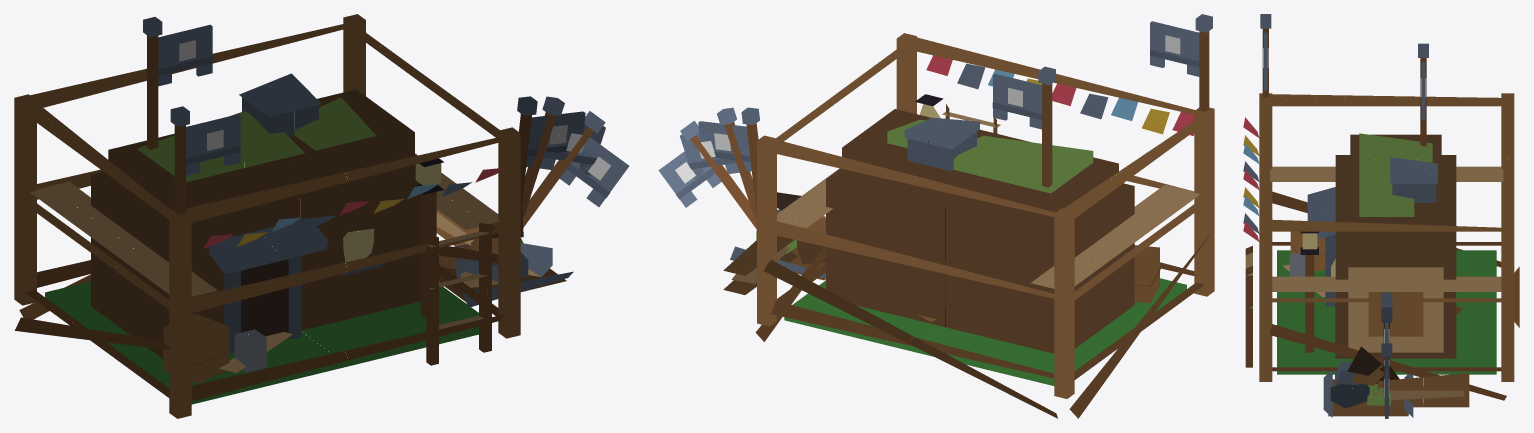
The model's file is raccoon-home_lod1.glb.
3 views of the same model, side by side, from view 1: azimuth 30°, elevation 25°; view 2: azimuth 150°, elevation 25°; view 3: azimuth 270°, elevation 25° (orthographic). The views are drawn at different scales.
Parts seen in each view (by area): view 1: scaffold-mesh, built-mesh, dismantle-75-mesh, dismantle-50-mesh, dismantle-25-mesh, banner, scaffold-banner, dismantle-25-banner, flag-pole, dismantle-75-banner, dismantle-25-flag-pole, scaffold-flag-pole (+3 smaller); view 2: scaffold-mesh, dismantle-75-mesh, built-mesh, dismantle-50-mesh, dismantle-25-mesh, scaffold-banner, banner, dismantle-25-banner, flag-pole, dismantle-75-banner, dismantle-25-flag-pole, scaffold-flag-pole (+3 smaller); view 3: scaffold-mesh, built-mesh, dismantle-25-mesh, dismantle-75-mesh, dismantle-50-mesh, flag-pole, scaffold-flag-pole, banner, scaffold-banner.
Boxes of the visible parts, <box> form: scaffold-mesh: <box>14,14,520,418</box>; built-mesh: <box>91,73,443,371</box>; dismantle-75-mesh: <box>91,178,573,381</box>; dismantle-50-mesh: <box>91,228,566,380</box>; dismantle-25-mesh: <box>163,207,552,383</box>; banner: <box>158,24,212,86</box>; scaffold-banner: <box>186,114,240,175</box>; dismantle-25-banner: <box>559,137,628,206</box>; flag-pole: <box>143,17,162,149</box>; dismantle-75-banner: <box>526,111,585,167</box>; dismantle-25-flag-pole: <box>522,111,605,227</box>; scaffold-flag-pole: <box>170,106,189,214</box>; scaffold-mesh: <box>723,33,1214,418</box>; dismantle-75-mesh: <box>730,185,1160,348</box>; built-mesh: <box>826,94,1134,240</box>; dismantle-50-mesh: <box>790,228,1159,347</box>; dismantle-25-mesh: <box>756,192,1159,353</box>; scaffold-banner: <box>1150,21,1199,76</box>; banner: <box>992,74,1041,129</box>; dismantle-25-banner: <box>658,148,721,207</box>; flag-pole: <box>1038,66,1055,187</box>; dismantle-75-banner: <box>698,121,751,171</box>; dismantle-25-flag-pole: <box>680,120,756,229</box>; scaffold-flag-pole: <box>1195,14,1212,111</box>; scaffold-mesh: <box>1243,93,1519,407</box>; built-mesh: <box>1289,133,1456,352</box>; dismantle-25-mesh: <box>1290,234,1463,408</box>; dismantle-75-mesh: <box>1289,231,1443,417</box>; dismantle-50-mesh: <box>1283,231,1408,416</box>; flag-pole: <box>1418,43,1428,146</box>; scaffold-flag-pole: <box>1260,14,1271,97</box>; banner: <box>1420,62,1426,119</box>; scaffold-banner: <box>1263,32,1268,90</box>.
Size of the model in its own units: 2.65 by 1.55 by 1.51.
